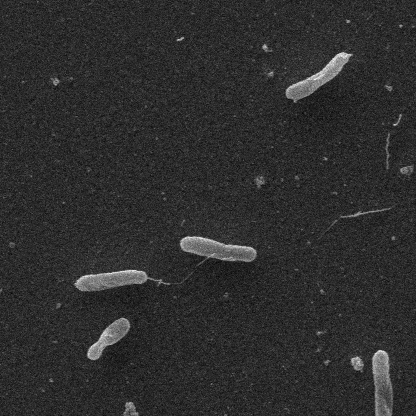cell: (282, 52, 351, 100), (179, 237, 257, 264), (85, 320, 129, 364), (369, 346, 393, 416), (73, 270, 146, 292)
nanowire: (146, 254, 216, 287)
